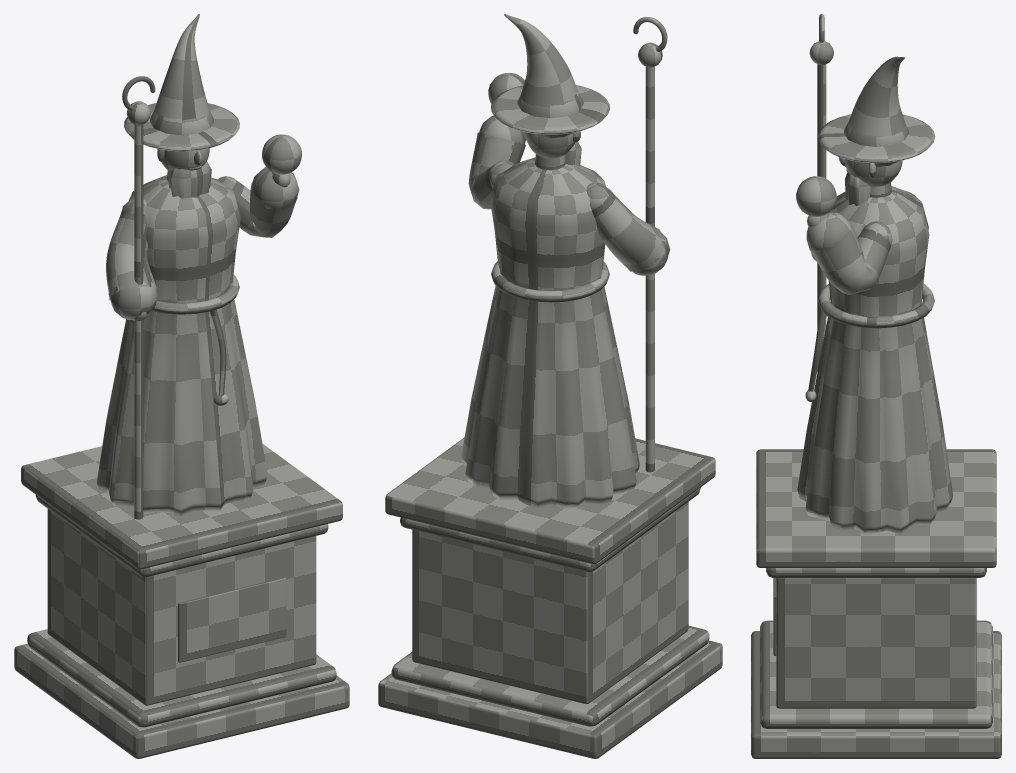
Rendered from statue.glb.
3 renders of one model, left to right at view 1: azimuth 30°, elevation 25°; view 2: azimuth 150°, elevation 25°; view 3: azimuth 270°, elevation 25°, orthographic. The views are drawn at different scales.
Parts seen in each view (by area): view 1: dyn_stone_variant; view 2: dyn_stone_variant; view 3: dyn_stone_variant.
Boxes of the visible parts, x1,y1,x2,y2 form: dyn_stone_variant: (14, 14, 349, 758); dyn_stone_variant: (378, 14, 722, 758); dyn_stone_variant: (751, 14, 1001, 758).
Bounding box in the file's own units: 0.9002 × 2.64 × 0.9002.
Materials: 1 (1 with a texture image).
